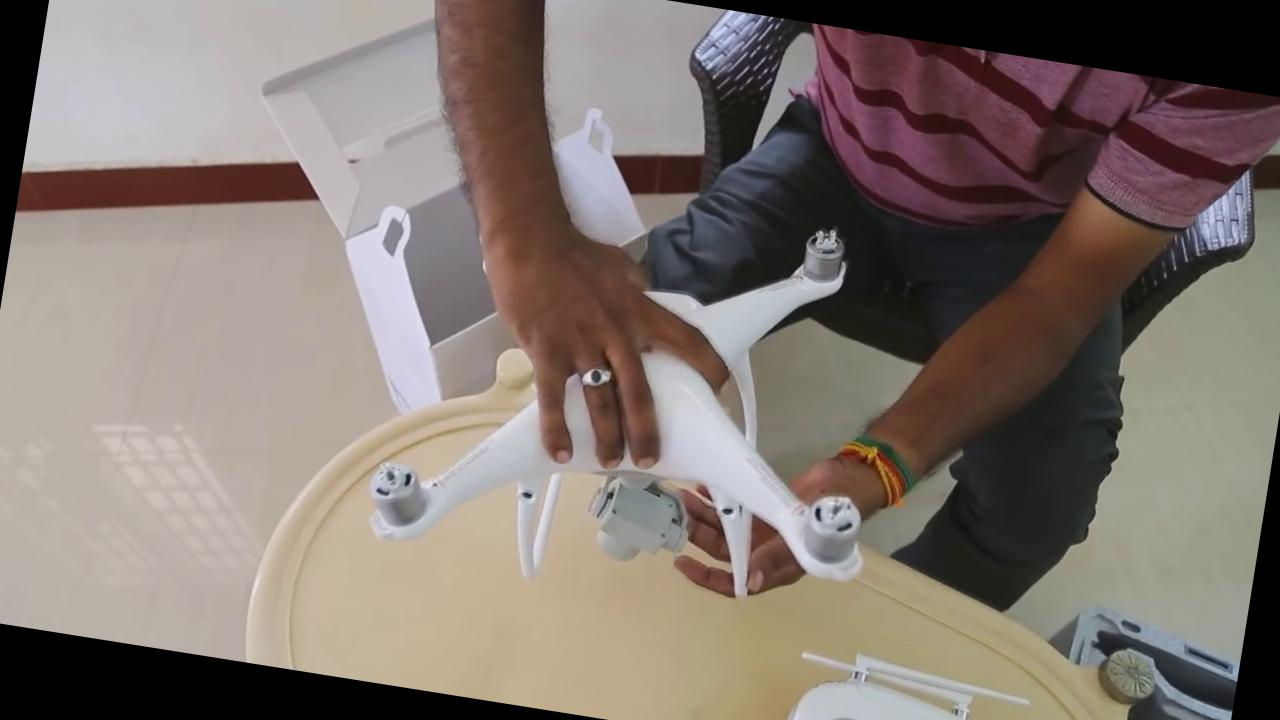drone: (334, 148, 961, 625)
